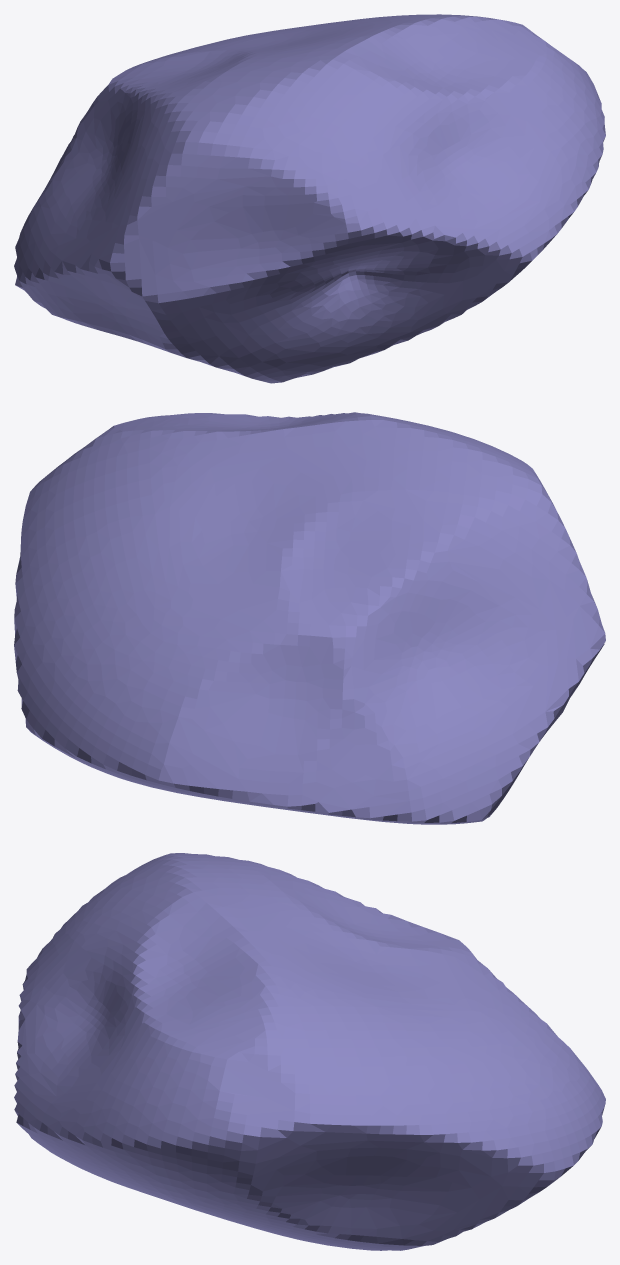
Rendered from Mithrill.fbx.
3 views of the same model, one above another, from view 1: azimuth 30°, elevation 25°; view 2: azimuth 150°, elevation 25°; view 3: azimuth 270°, elevation 25° (orthographic). The views are drawn at different scales.
Parts seen in each view (by area): view 1: Cube.008; view 2: Cube.008; view 3: Cube.008.
Boxes of the visible parts, x1,y1,x2,y2 form: Cube.008: (14, 14, 605, 383); Cube.008: (14, 412, 605, 824); Cube.008: (14, 853, 605, 1250).
Size of the model in its own units: 29.08 by 17.48 by 28.6.
